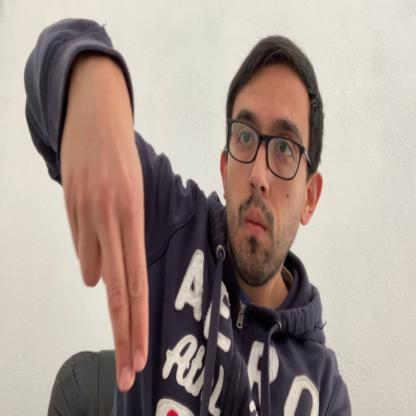N: (62, 69, 148, 390)
